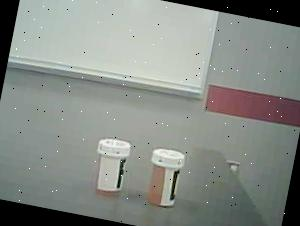Bottle D: (139, 142, 191, 218)
Bottle F: (84, 130, 140, 202)
